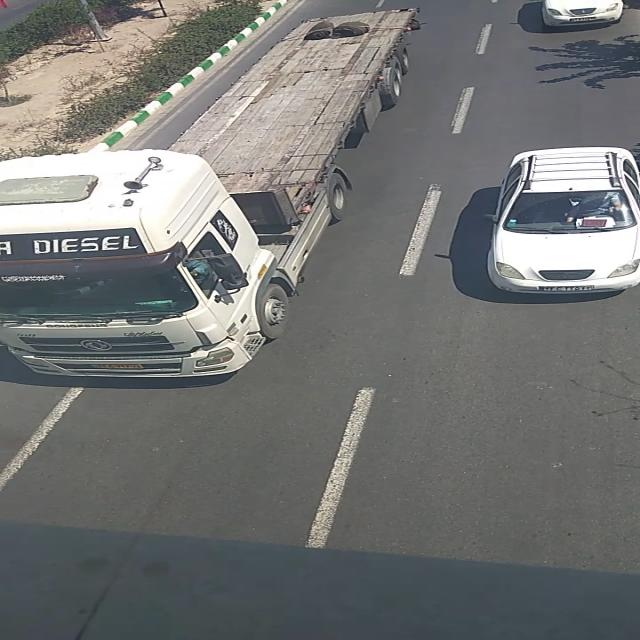car: (481, 146, 640, 295), (540, 0, 626, 25)
truck: (0, 8, 424, 378), (210, 265, 213, 267)
